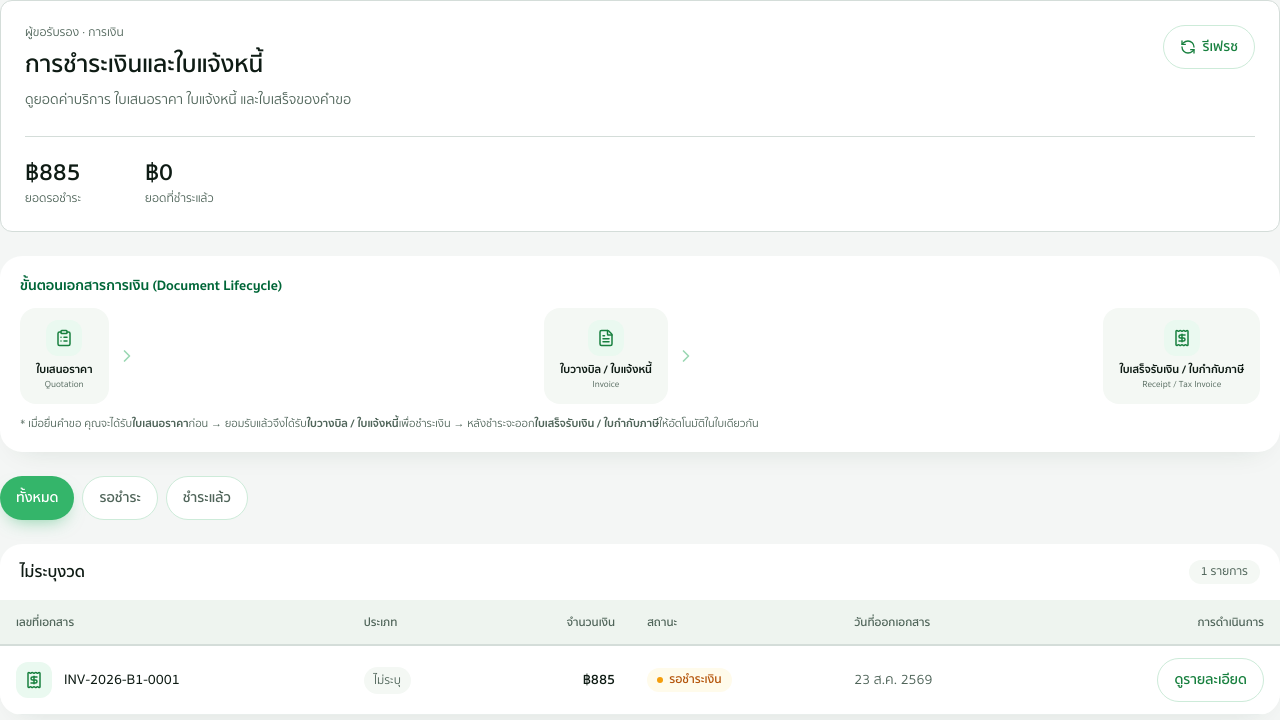
Scenario: B1 — invoice PDF download failure is visible to the farmer › shows a Thai error naming the cause and the next action when the download fails
The width and height of the screenshot is (1280, 720).
Click the button "ดูรายละเอียด". click: (1211, 680)
box: [1158,658,1264,702]
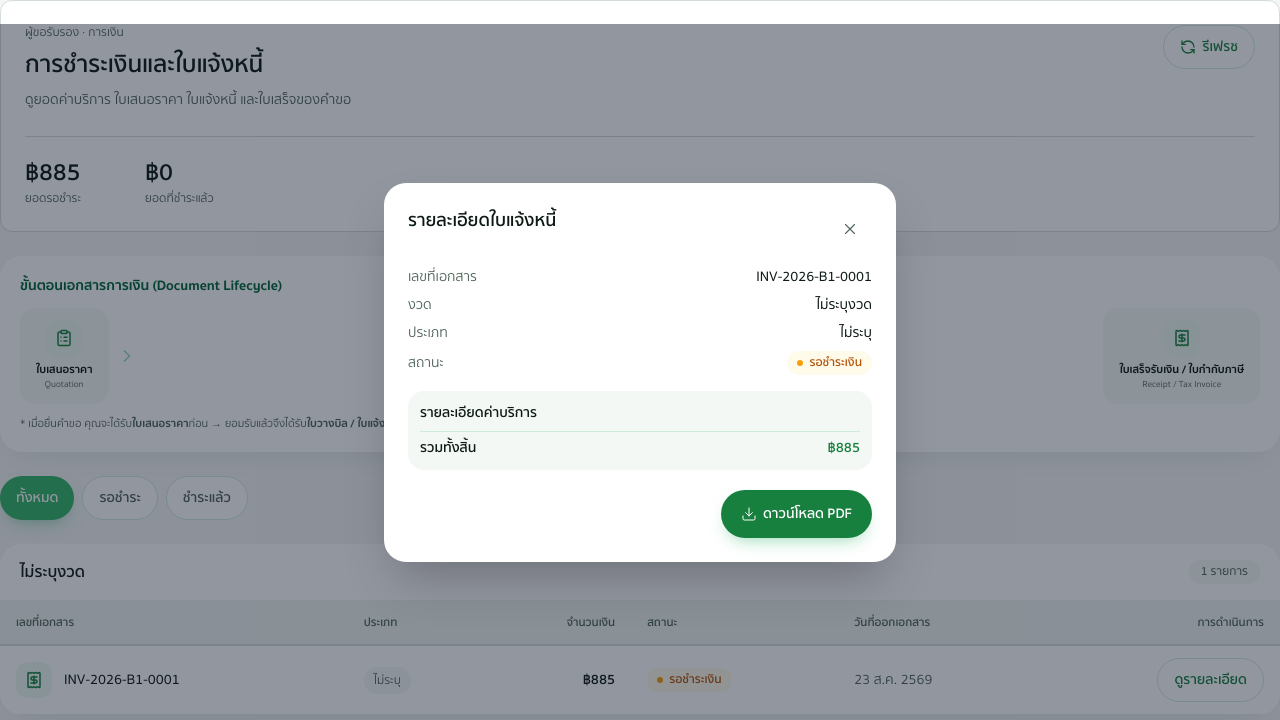
Expected: the text "รายละเอียดใบแจ้งหนี้" is shown, [408,206,556,234]
Click the button "ดาวน์โหลด PDF". click: (796, 514)
box: [721,490,872,538]
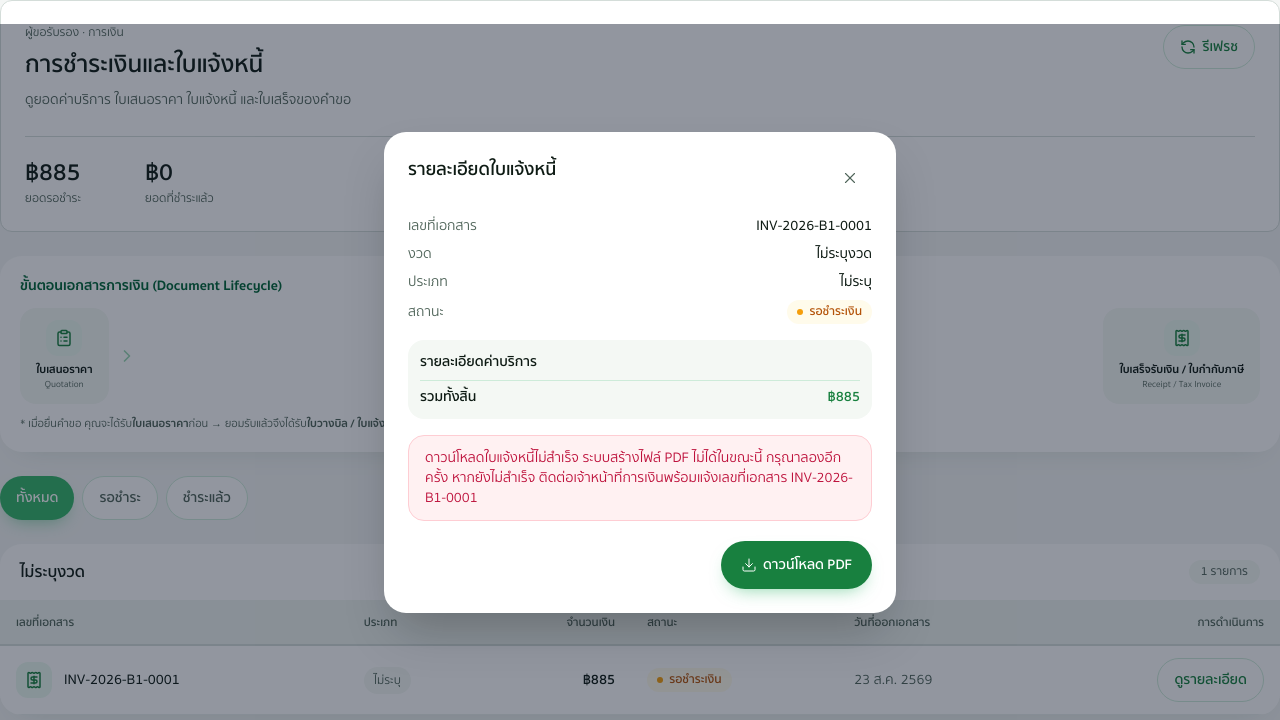
Expected: the message is shown, [408,434,872,520]
Expected: the message shows "ดาวน์โหลดใบแจ้งหนี้ไม่สำเร็จ", [425,446,853,508]
Expected: the message shows "ลองอีกครั้ง", [425,446,853,508]
